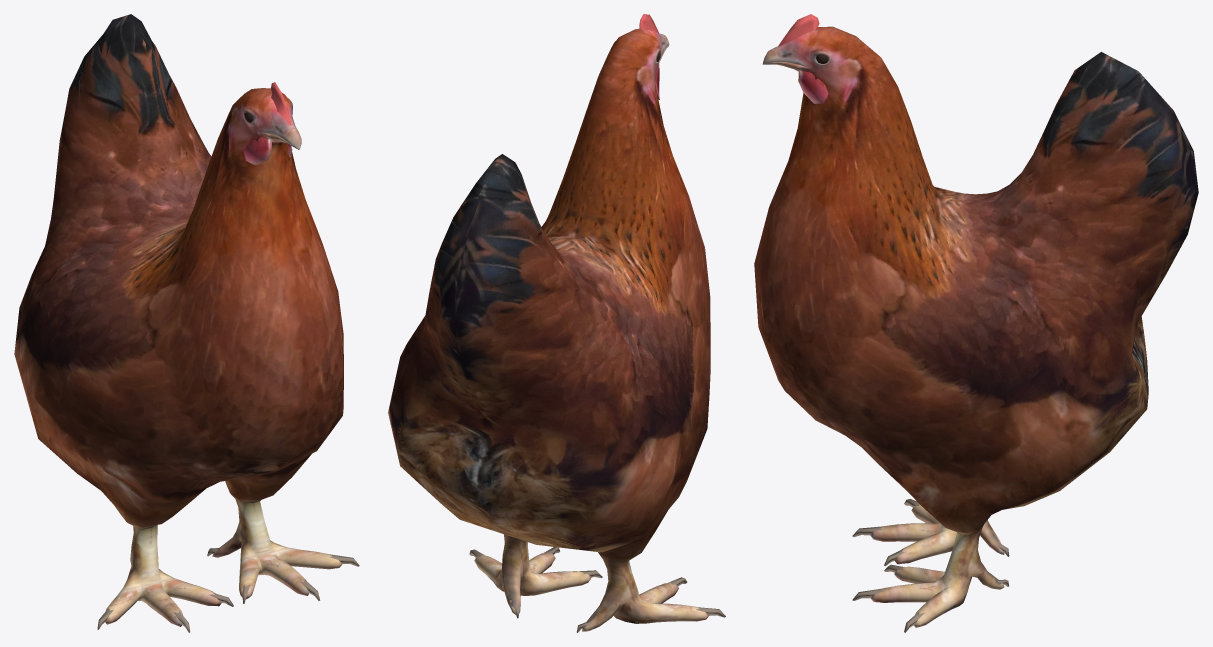
File: chickenV2.fbx
3 views of the same model, side by side, from view 1: azimuth 30°, elevation 25°; view 2: azimuth 150°, elevation 25°; view 3: azimuth 270°, elevation 25° (orthographic). The views are drawn at different scales.
Parts seen in each view (by area): view 1: Chicken; view 2: Chicken; view 3: Chicken.
Boxes of the visible parts, bbox=[...] form: Chicken: bbox=[14, 14, 359, 632]; Chicken: bbox=[388, 14, 725, 632]; Chicken: bbox=[754, 14, 1198, 632].
Bounding box in the file's own units: 658 × 1266 × 912.
